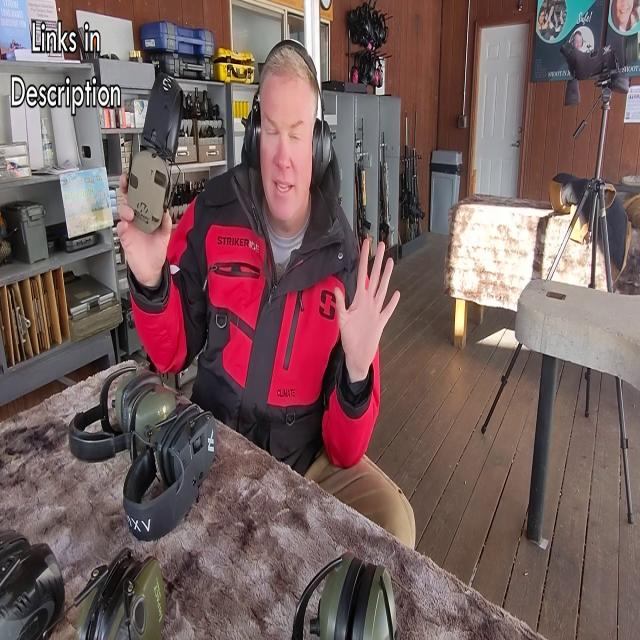earmuff: (126, 136, 172, 234), (308, 110, 338, 182), (238, 97, 263, 169)
